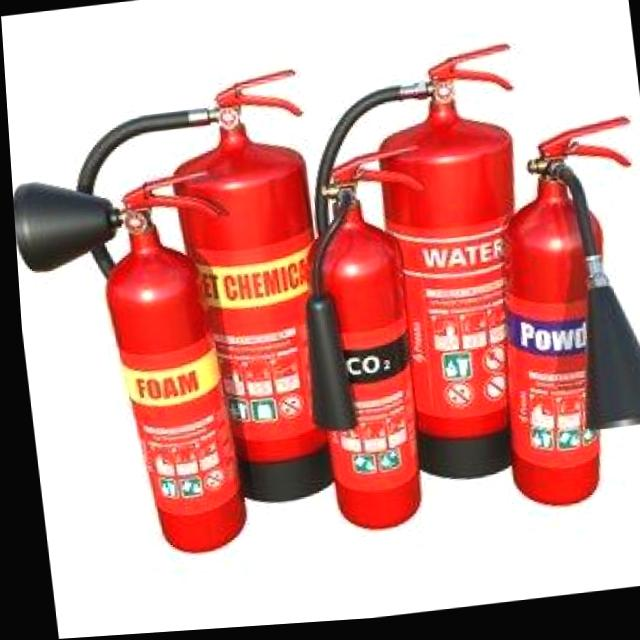FireExtinguisher: (48, 61, 345, 530), (278, 43, 556, 501), (9, 160, 260, 574), (272, 138, 458, 546), (464, 114, 640, 522)
